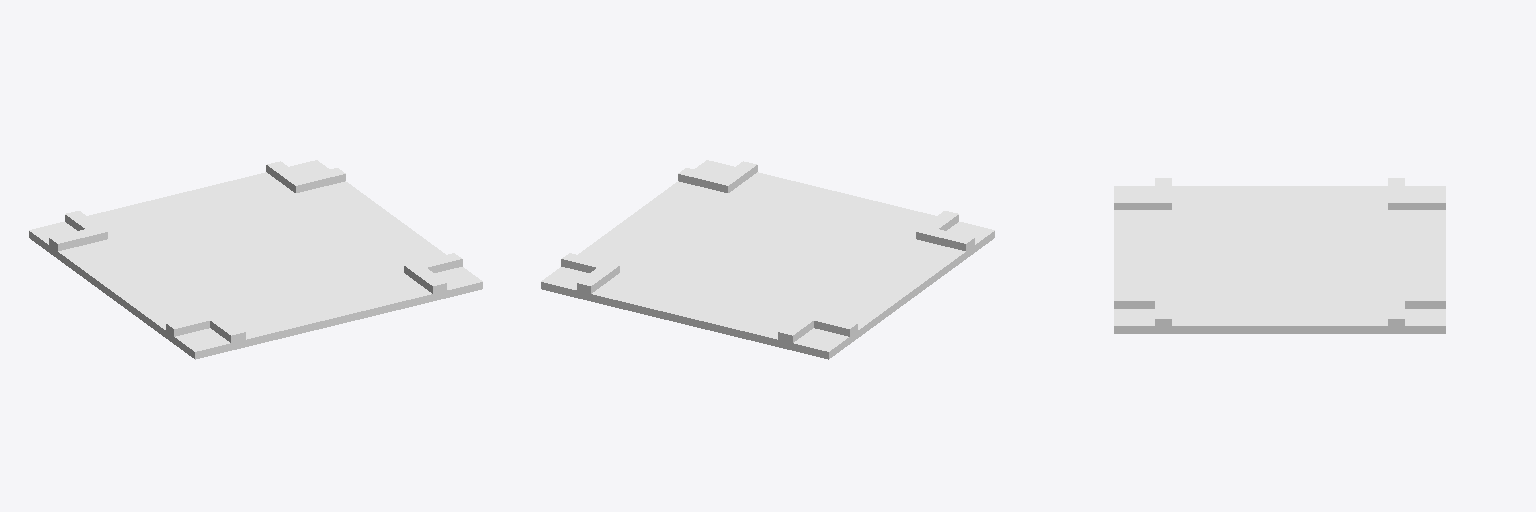
The model's file is road4-1-1.obj.
3 views of the same model, side by side, from view 1: azimuth 30°, elevation 25°; view 2: azimuth 150°, elevation 25°; view 3: azimuth 270°, elevation 25° (orthographic).
Parts seen in each view (by area): view 1: object 1; view 2: object 1; view 3: object 1.
Part boxes in pixels (left/top/right/bottom): object 1: left=29, top=160, right=482, bottom=359; object 1: left=541, top=160, right=994, bottom=359; object 1: left=1114, top=178, right=1445, bottom=333.
Size of the model in its own units: 4 by 0.2 by 4.